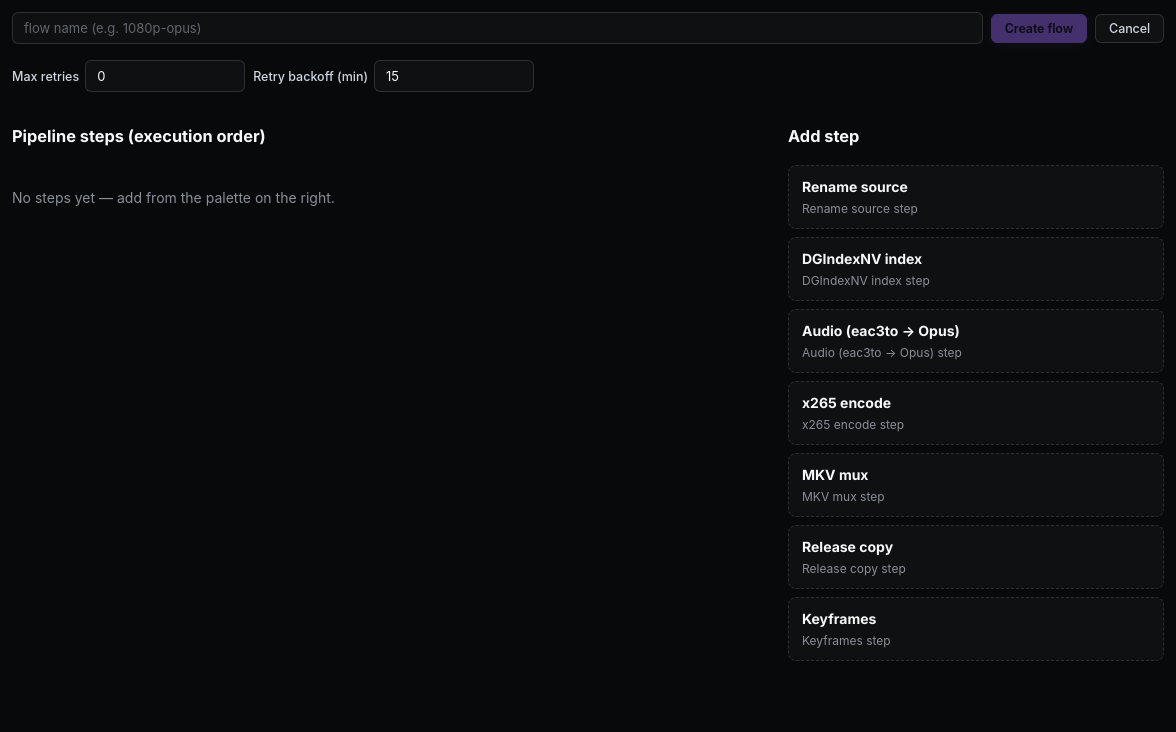
Test: FlowBuilder › blocks save when backoff is below 1
This screenshot has width=1176, height=732.
Type "bad2" into the field with placeholder "flow name (e.g. 1080p-opus)" at (497, 28), box [12,12,983,44]
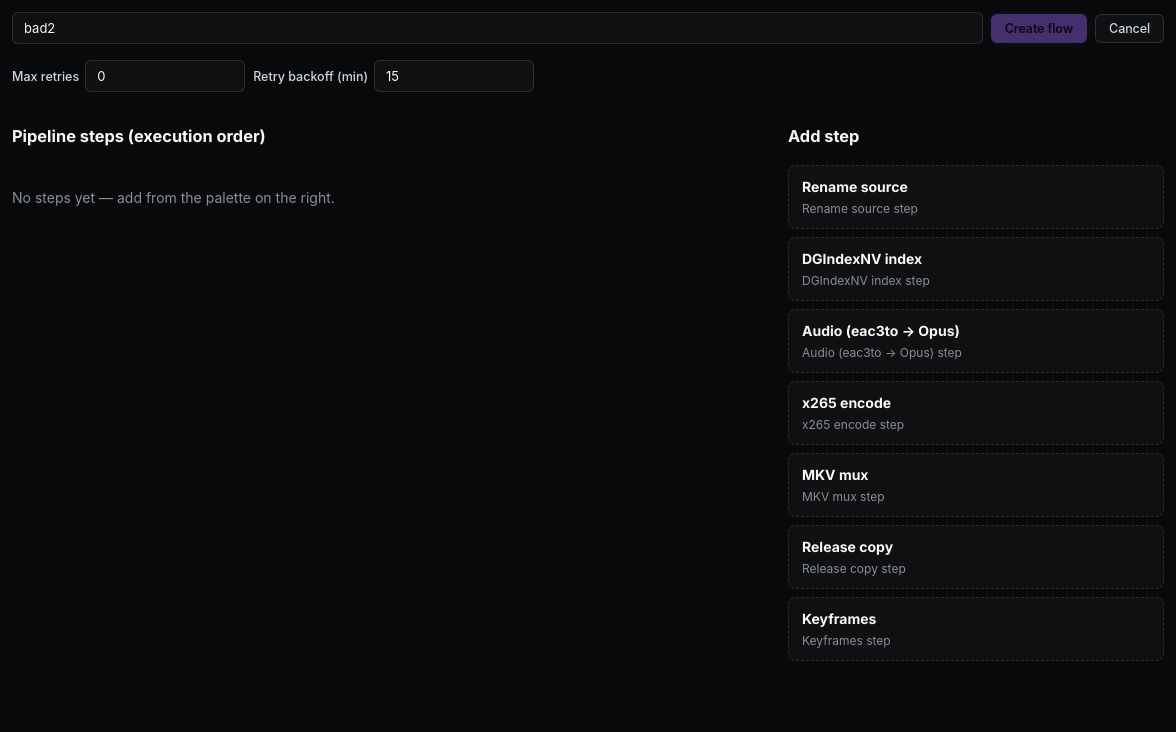
Click the text "DGIndexNV index" at (862, 259), box [802,250,922,267]
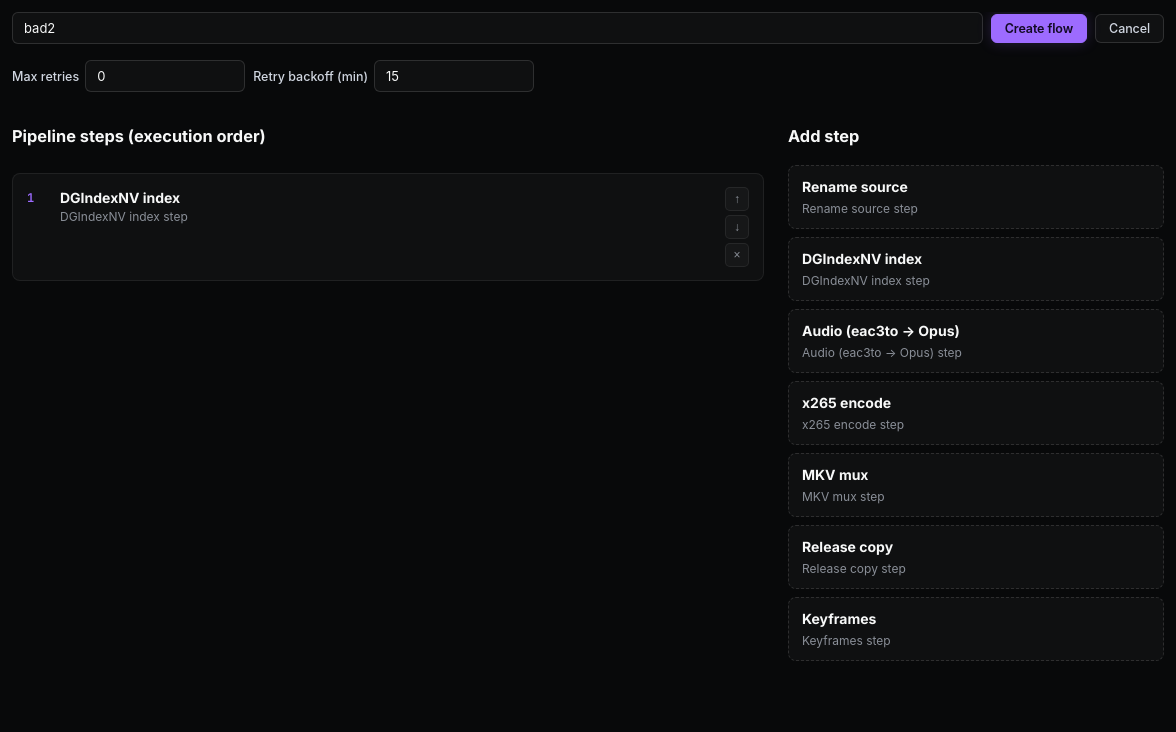
Replace the text in the number field labelled "Max retries" with "3" at (165, 76), box [85,60,245,92]
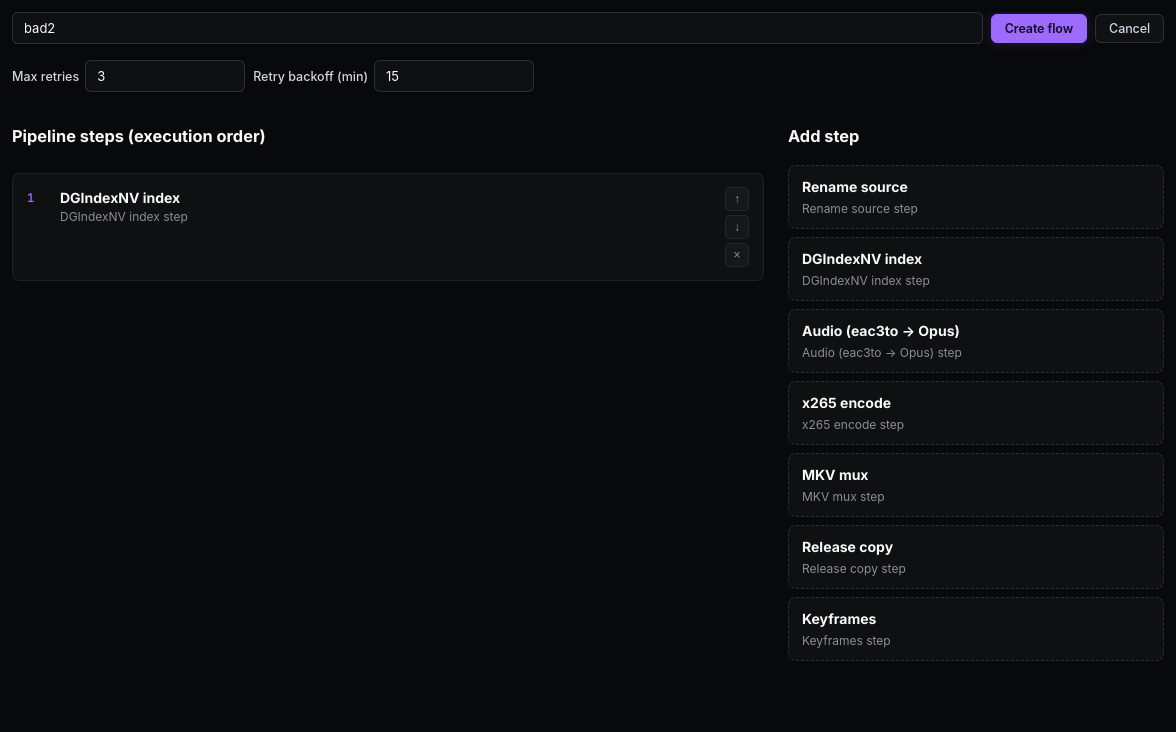
Replace the text in the number field labelled "Retry backoff (min)" with "0" at (454, 76), box [374,60,534,92]
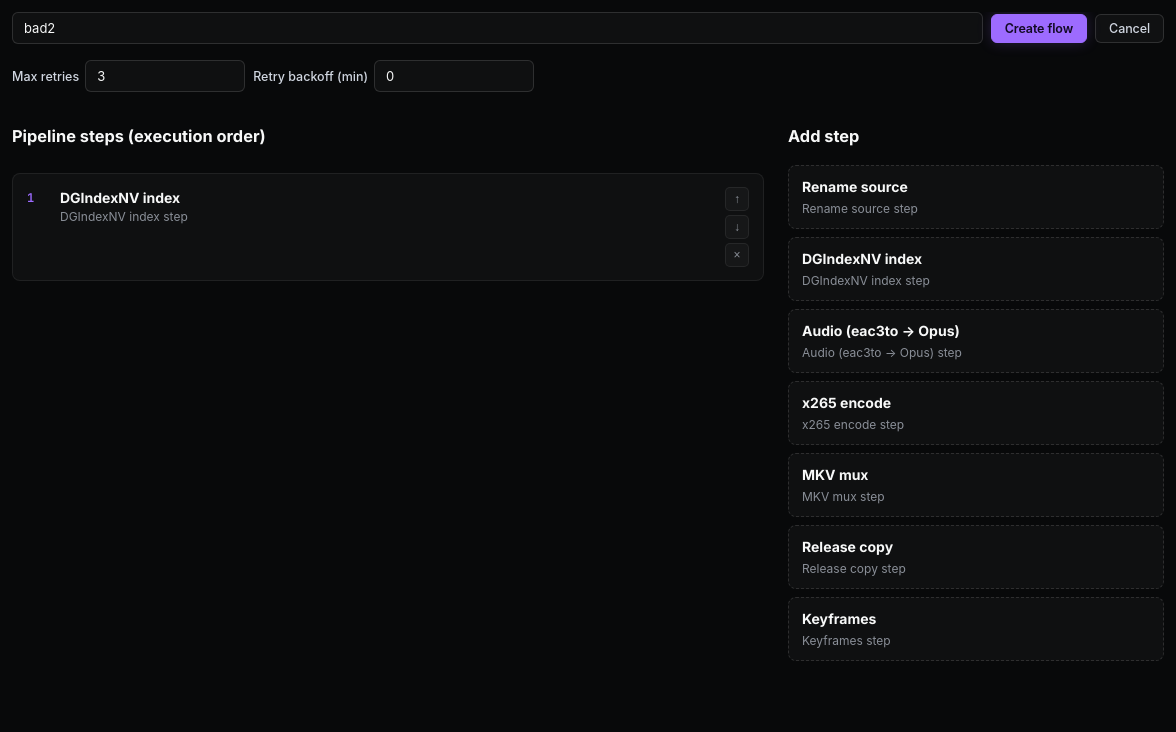
Click the button "Create flow" at (1039, 28), box [991,14,1087,42]
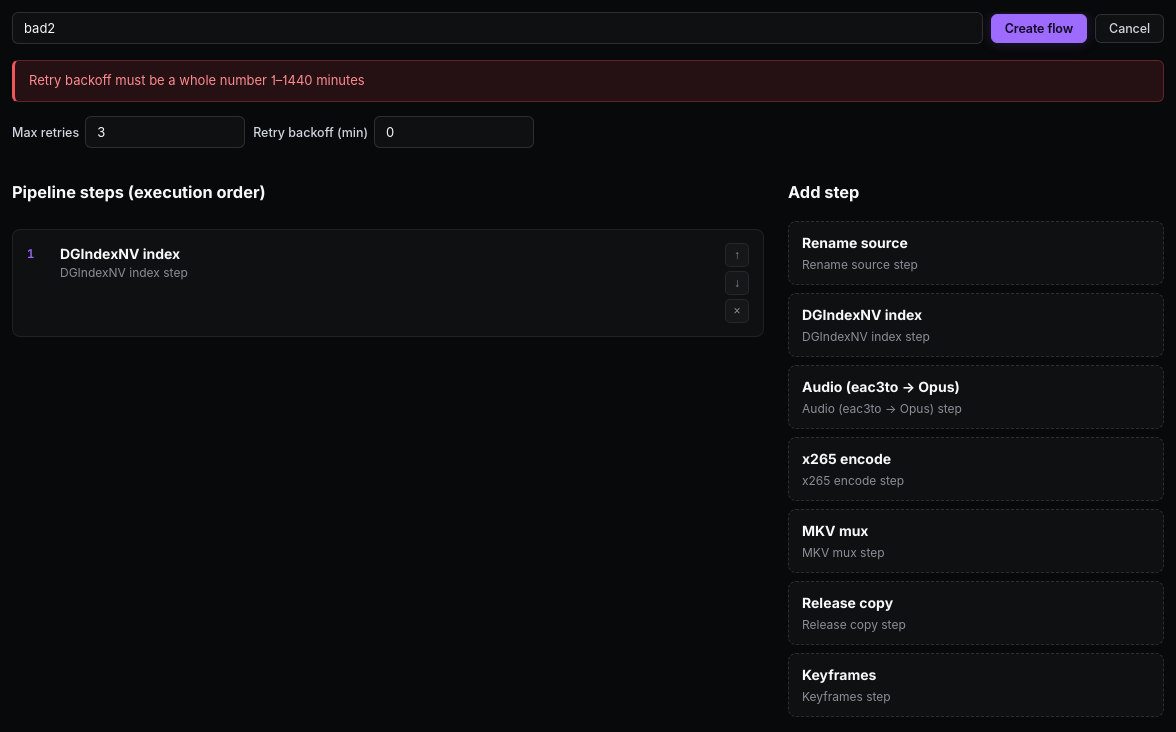
Expected: the text "Retry backoff must be a whole number 1–1440 minutes" is shown, [12,60,1164,102]
